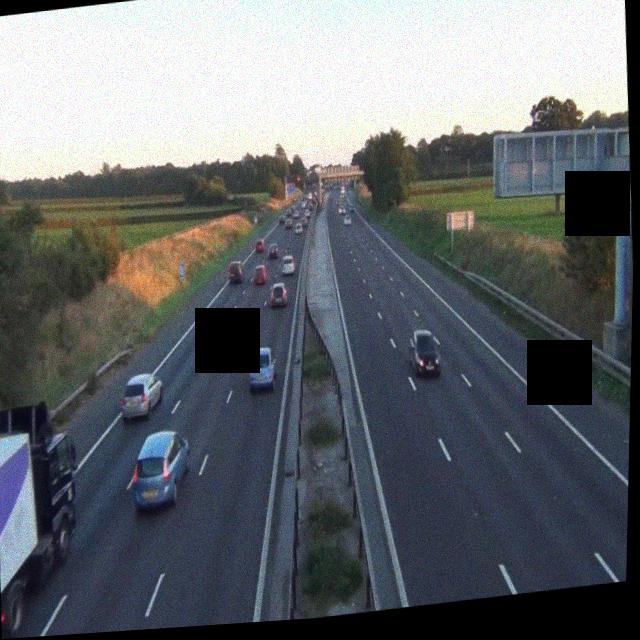car: (130, 428, 192, 511), (119, 372, 163, 422), (408, 327, 442, 379), (248, 346, 278, 391), (218, 321, 244, 356), (269, 282, 287, 309), (227, 260, 244, 284), (252, 263, 268, 286), (281, 254, 296, 278), (268, 240, 279, 258), (254, 239, 266, 253), (294, 221, 304, 234), (344, 212, 353, 224), (302, 209, 311, 221), (278, 214, 286, 226)
truck: (0, 396, 88, 640)
